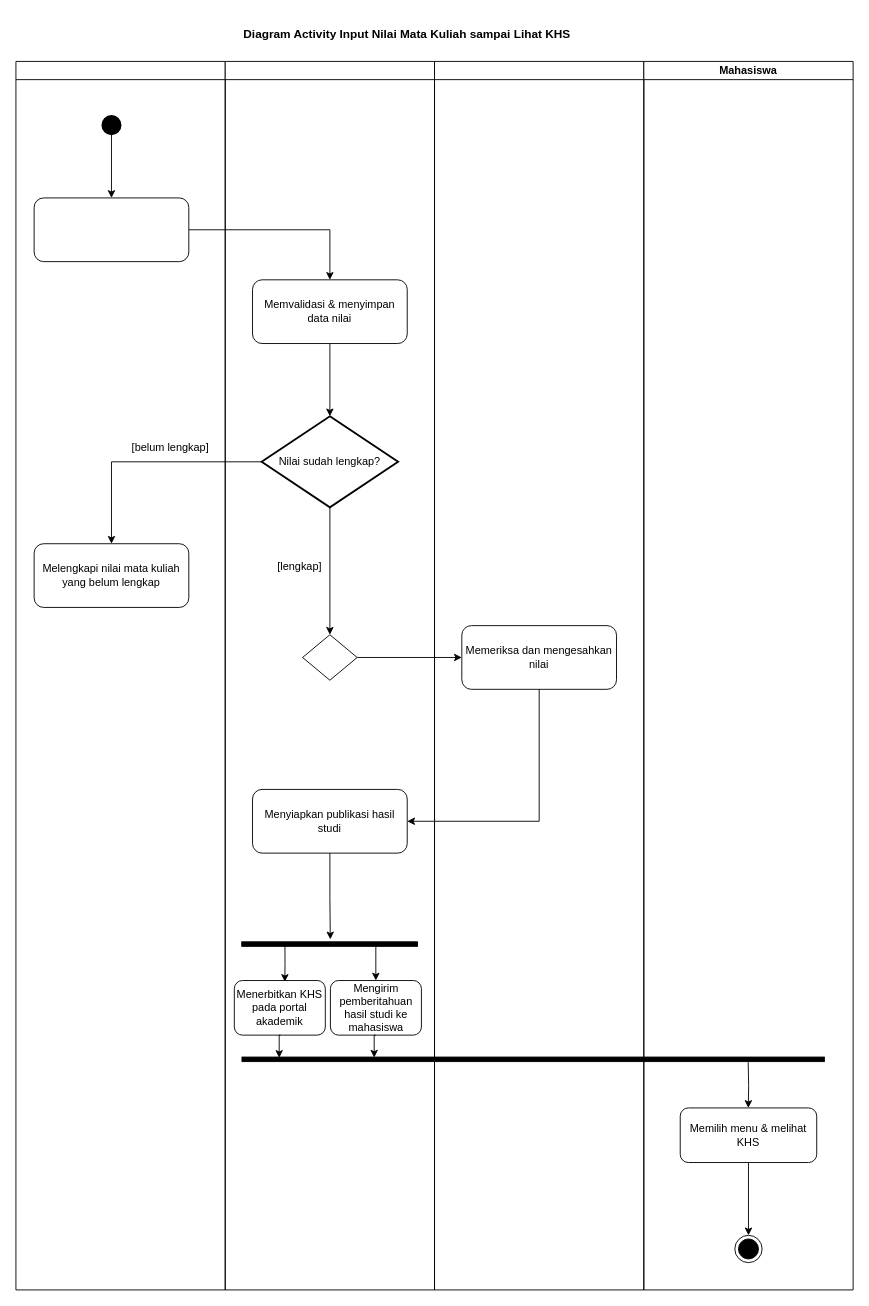
Some shapes in this 869 by 1306 pixel diagram are drawn without their labels. Each missing label, with the box of its shape:
Admin Akademik: (434, 61, 644, 1290)
Dosen: (15, 61, 225, 1290)
Memilih menu & memasukkan nilai mata kuliah: (33, 197, 189, 262)
SIstem: (224, 61, 435, 1290)
